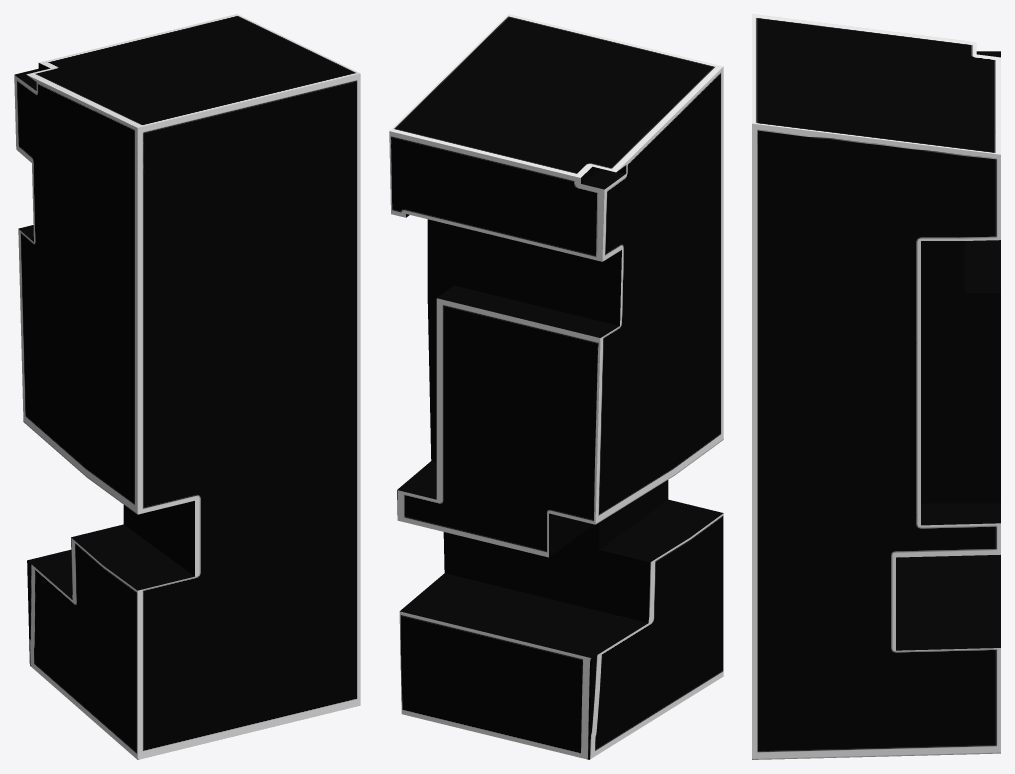
Rendered from Obstacle4.fbx.
3 renders of one model, left to right at view 1: azimuth 30°, elevation 25°; view 2: azimuth 150°, elevation 25°; view 3: azimuth 270°, elevation 25°, orthographic. The views are drawn at different scales.
Parts seen in each view (by area): view 1: polySurface12; view 2: polySurface12; view 3: polySurface12.
Part boxes in pixels (x1,y1,x2,y2): polySurface12: (14, 14, 360, 759); polySurface12: (389, 14, 723, 759); polySurface12: (752, 14, 1000, 759).
Bounding box in the file's own units: 3.76 × 10.19 × 3.61.
Materials: 1 (1 with a texture image).
